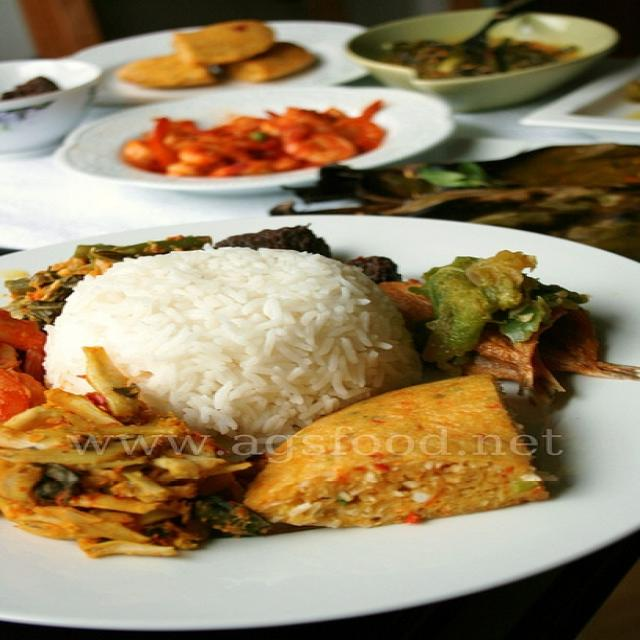米饭主食: (18, 29, 606, 608)
